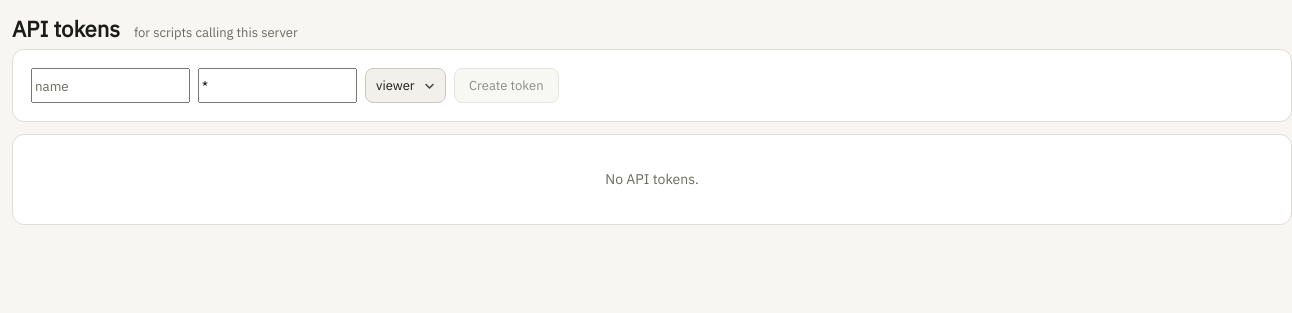
Tokens page › creates a token and shows the secret once
Type "ci" into the field named "Token name" at (110, 86), box [31, 68, 190, 103]
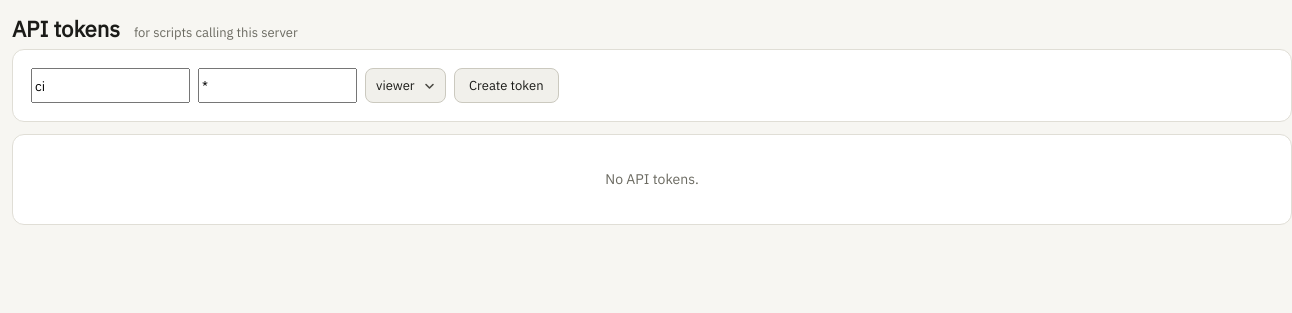
Replace the text in the field named "workspace" with "ml" at (278, 86), box [198, 68, 357, 103]
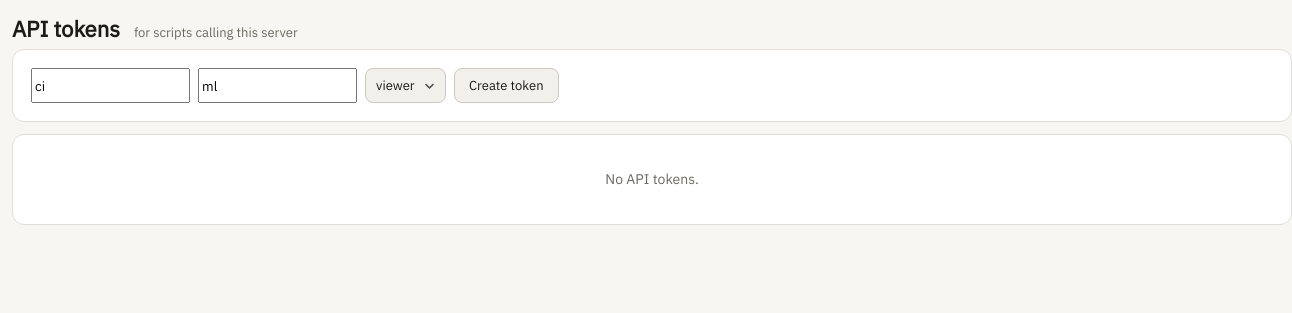
Select "editor" in the dropdown named "Role" at (406, 86), box [365, 68, 446, 103]
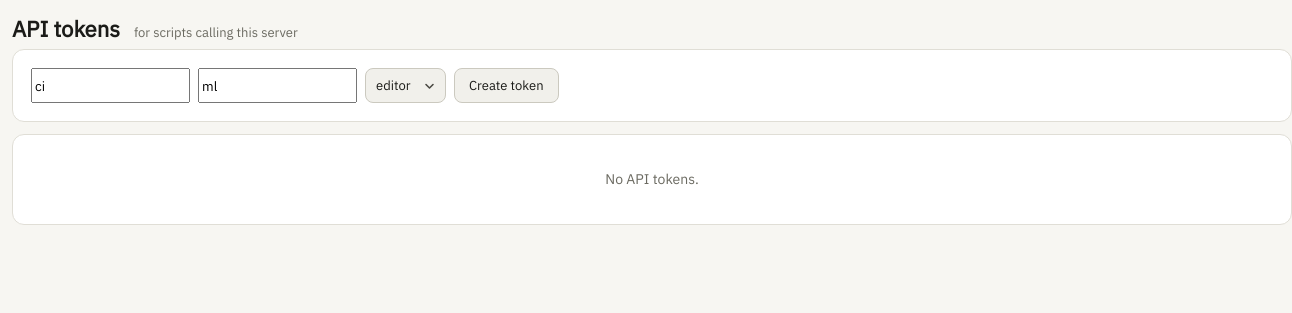
Click the button "Create token" at (506, 86), box [454, 68, 558, 103]
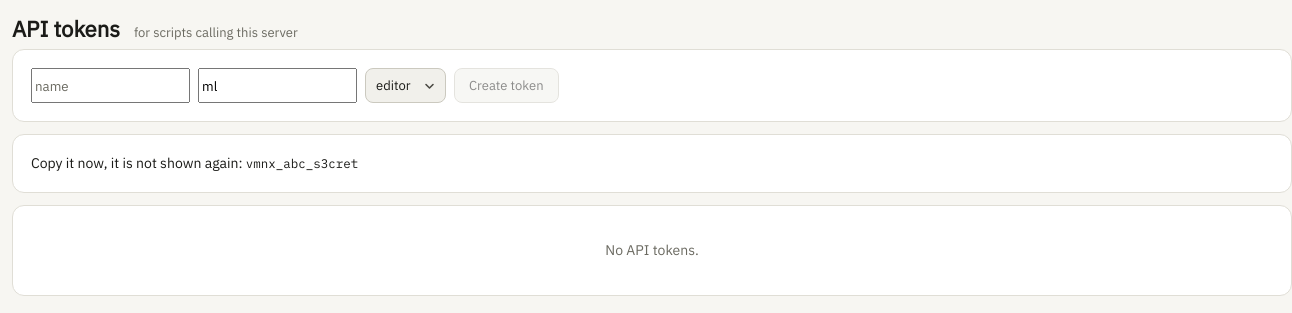
Check: the text "vmnx_abc_s3cret" is shown, box [246, 155, 358, 171]
